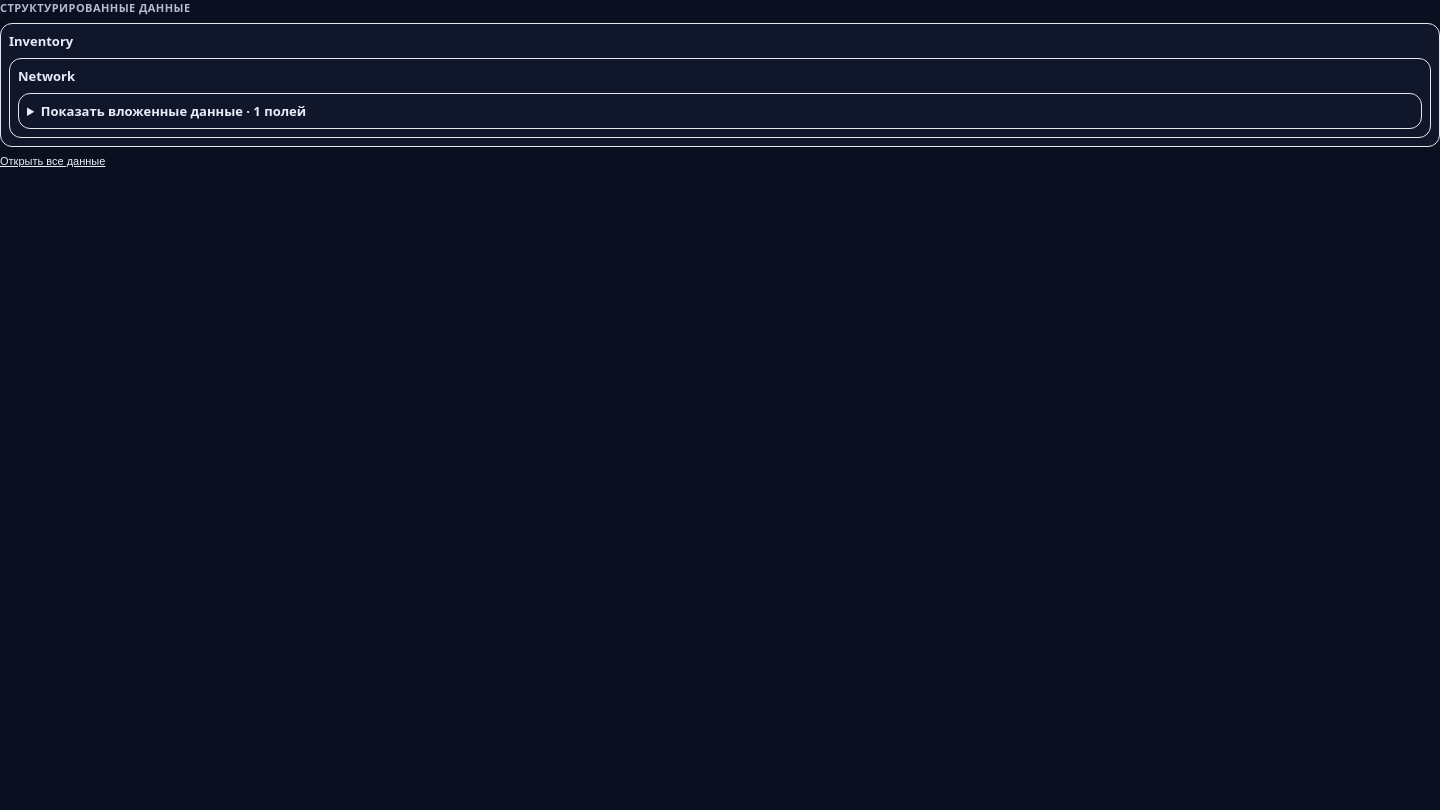
Test: AgentResultViewer › keeps the full human view readable and provides access to deeply nested values
Step 1. Click the button "Открыть все данные" → (53, 161), box [0,155,105,167]
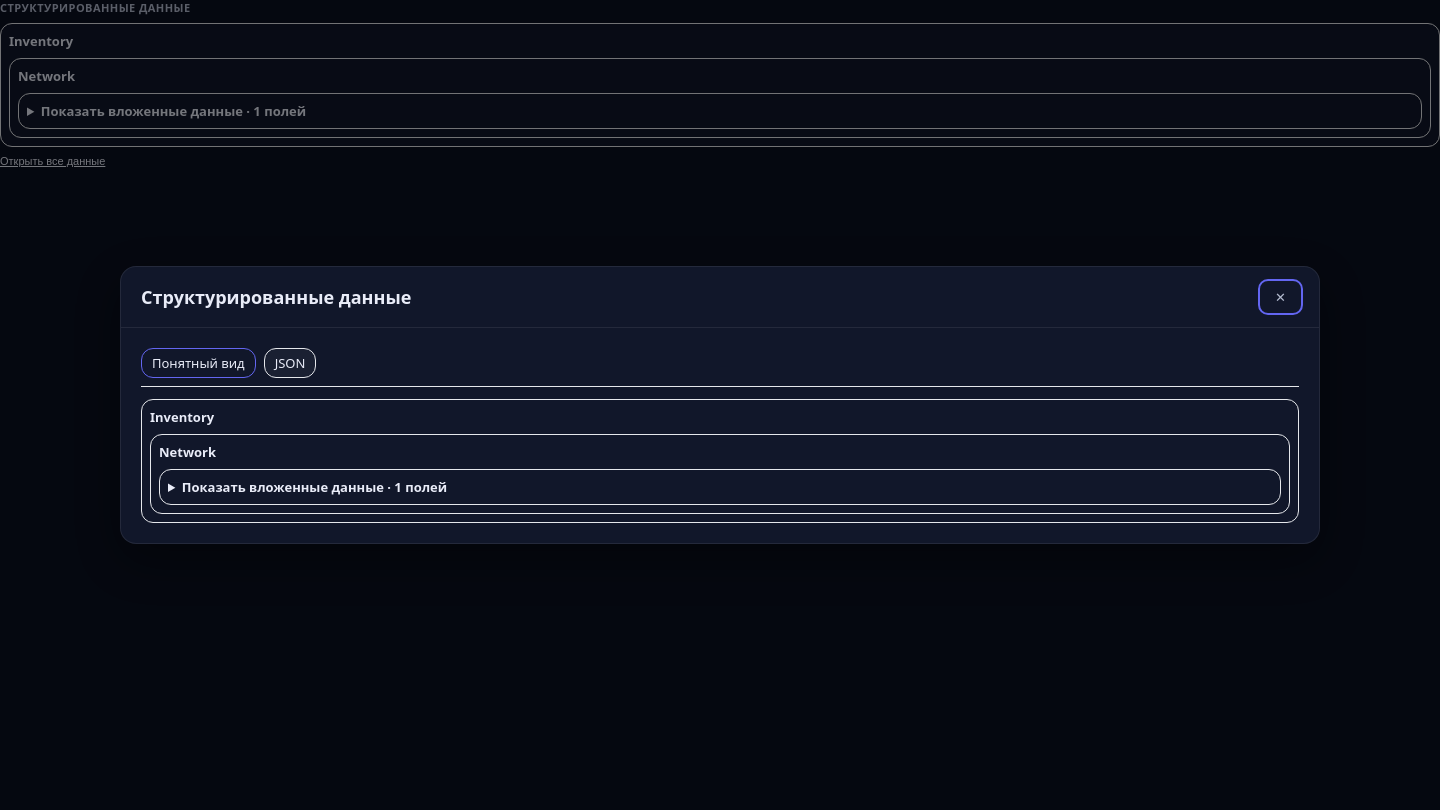
Step 2. Click the heading "Показать вложенные данные · 1 полей" → (314, 487), box [182,478,447,496]
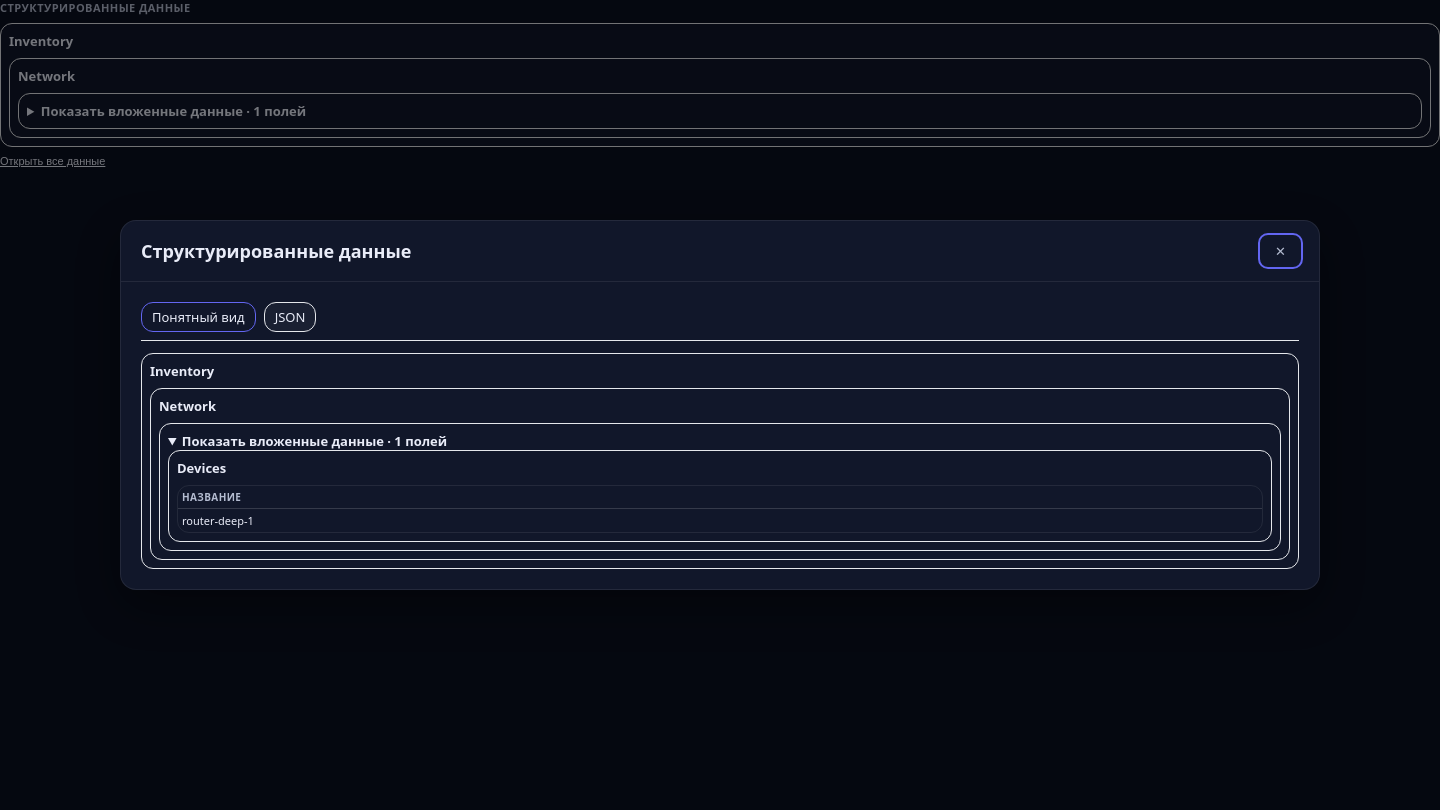
Now the heading "Devices" is shown, box [177,459,226,477]
Now the text "router-deep-1" is shown, box [178,509,1262,532]
